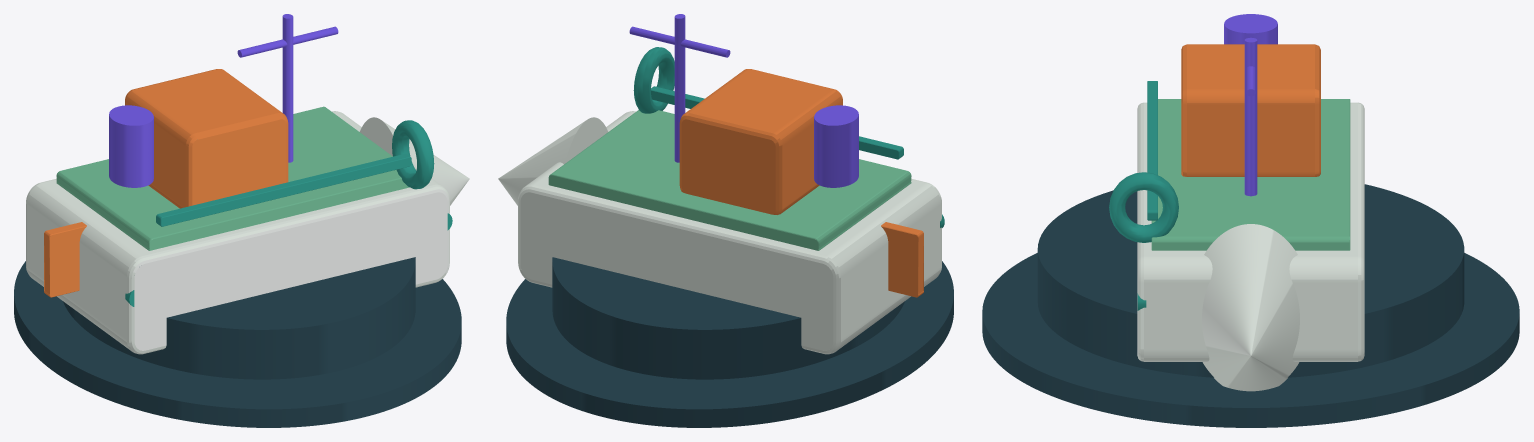
Rendered from 0668_史前人类图鉴_庇斯独木舟.glb.
3 renders of one model, left to right at view 1: azimuth 30°, elevation 25°; view 2: azimuth 150°, elevation 25°; view 3: azimuth 270°, elevation 25°, orthographic. The views are drawn at different scales.
Visible parts, largest first — view 1: card_0668; view 2: card_0668; view 3: card_0668.
Part boxes in pixels (left/top/right/bottom): card_0668: left=14, top=14, right=469, bottom=427; card_0668: left=498, top=14, right=953, bottom=427; card_0668: left=982, top=14, right=1519, bottom=427.
Bounding box in the file's own units: 1.49 × 1 × 1.53.
